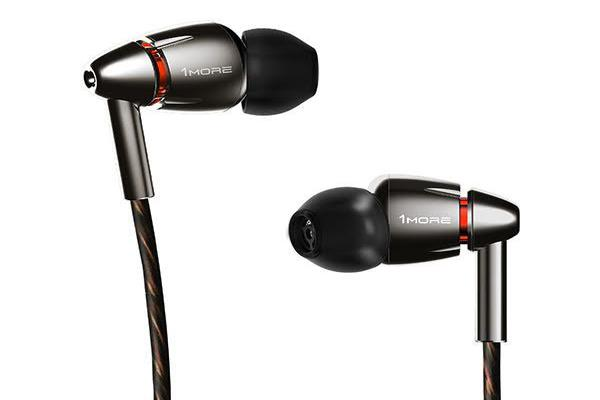headphone: (24, 20, 531, 347)
